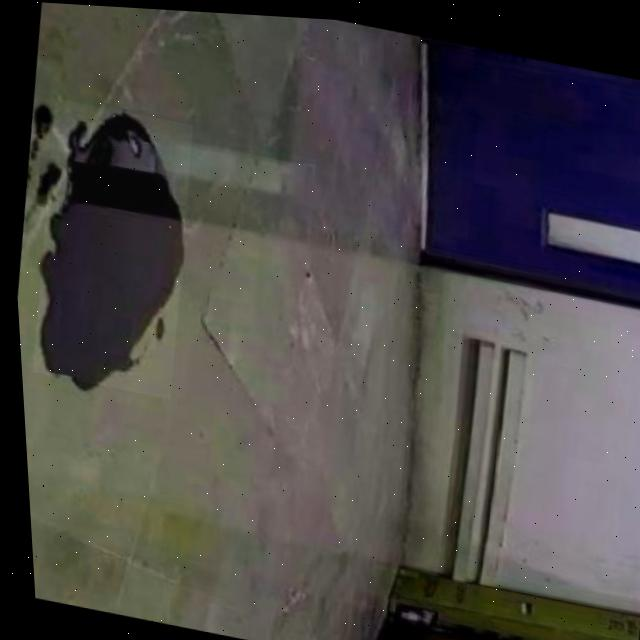spillage: (34, 113, 182, 383)
